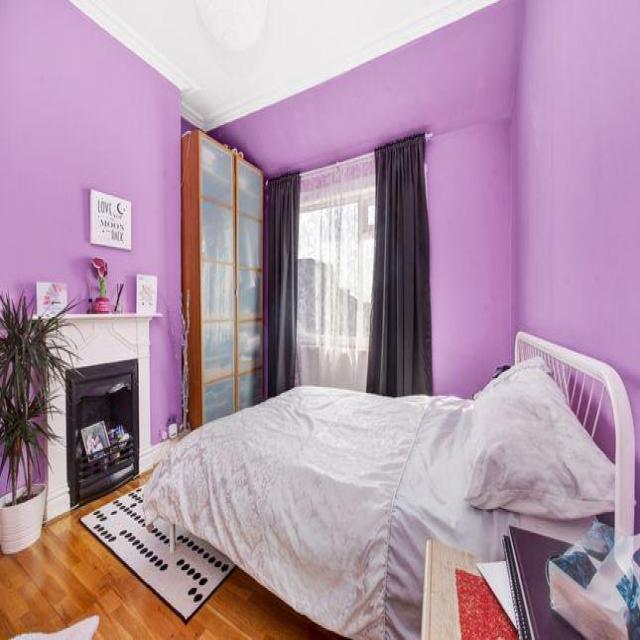Wall: (426, 0, 640, 528), (0, 0, 181, 440), (0, 473, 338, 639), (71, 0, 495, 130), (211, 0, 524, 176)
